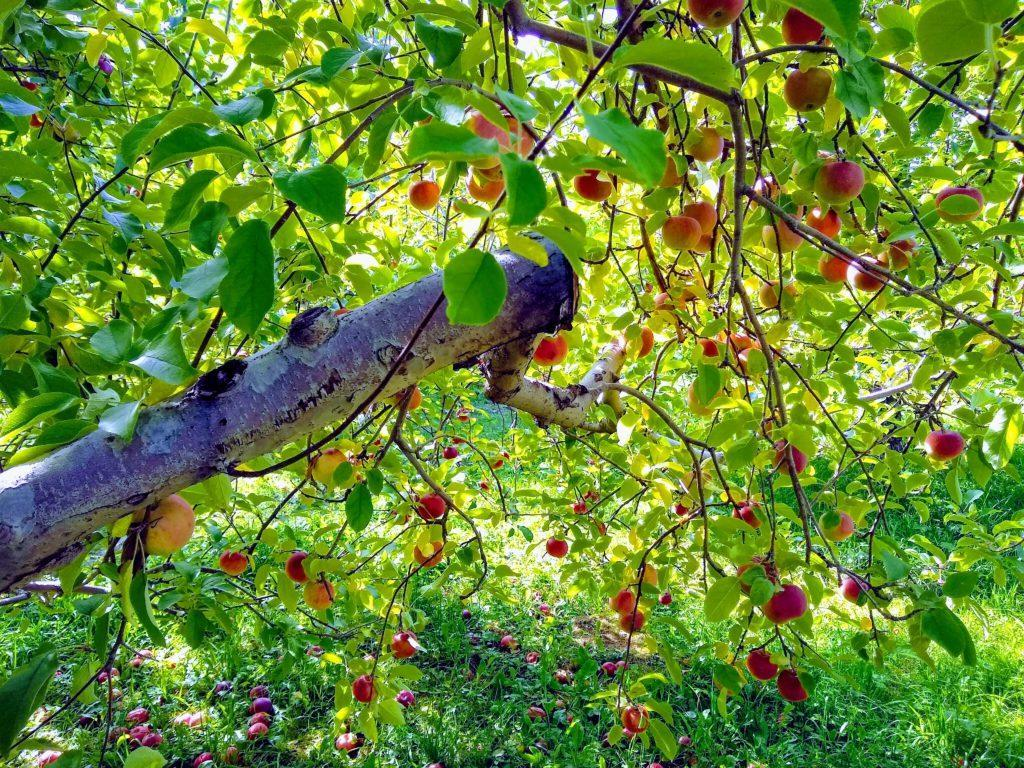apple: (142, 494, 196, 555), (785, 66, 834, 112), (814, 158, 863, 204), (759, 582, 806, 622), (923, 429, 965, 464), (664, 215, 702, 251), (388, 630, 419, 659), (217, 549, 248, 577)
